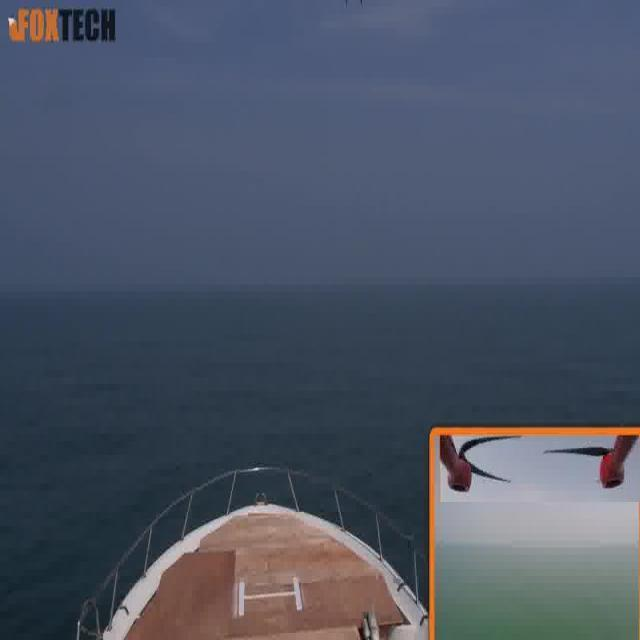drone: (439, 432, 640, 502)
